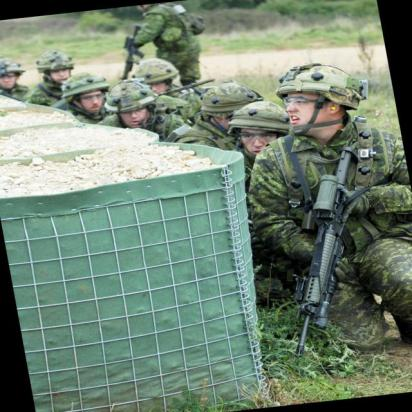Gun: (281, 153, 385, 355)
